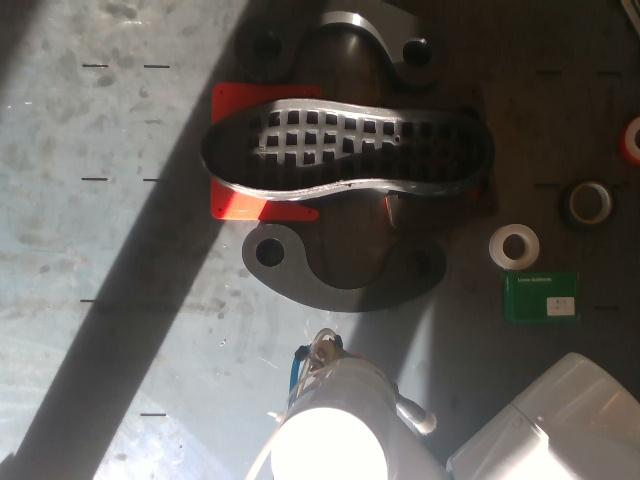shoes: (201, 99, 487, 191)
